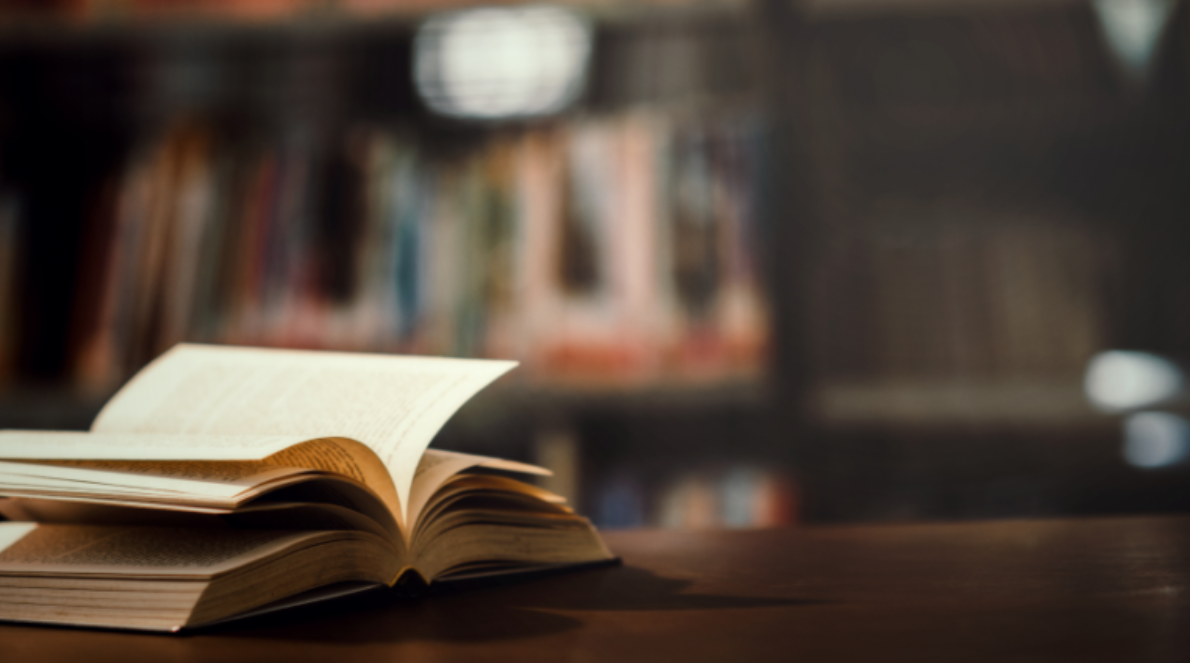book: (7, 314, 621, 636)
